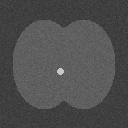nodule: (53, 65, 68, 79)
